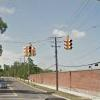Traffic light: (56, 33, 88, 61)
